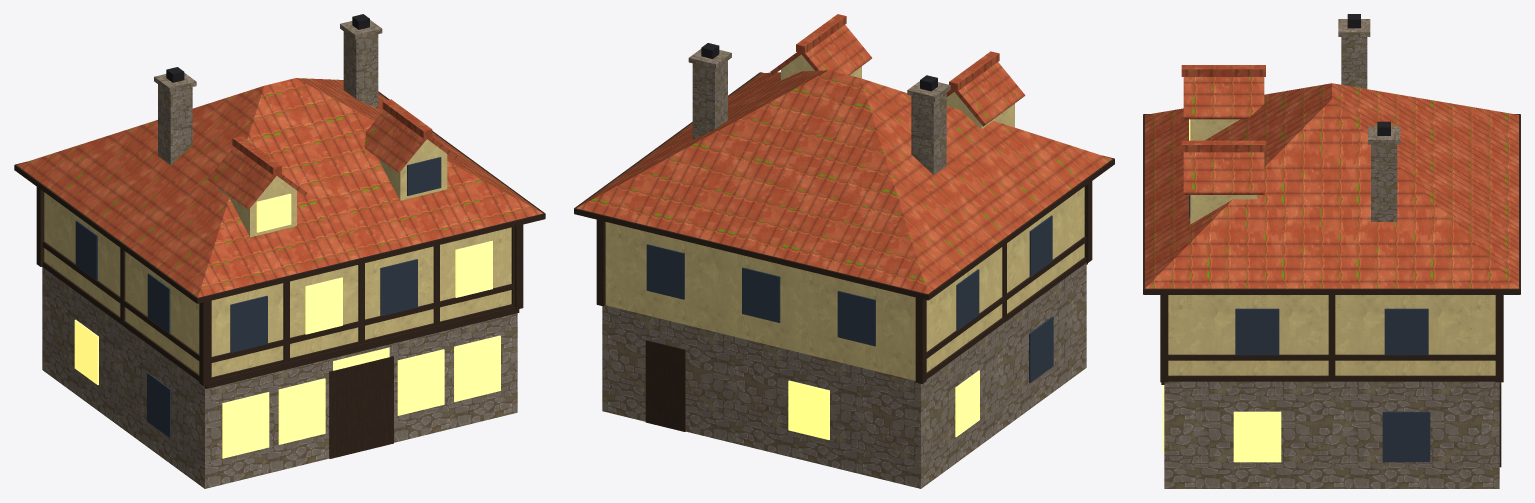
File: lantern_inn.glb
3 renders of one model, left to right at view 1: azimuth 30°, elevation 25°; view 2: azimuth 150°, elevation 25°; view 3: azimuth 270°, elevation 25°, orthographic. The views are drawn at different scales.
Parts seen in each view (by area): view 1: lantern_inn; view 2: lantern_inn; view 3: lantern_inn.
Part boxes in pixels (x1,y1,x2,y2): lantern_inn: [14, 14, 545, 488]; lantern_inn: [574, 14, 1114, 488]; lantern_inn: [1143, 14, 1520, 488].
Bounding box in the file's own units: 11.14 × 10.25 × 10.14.
Materials: 7 (4 with a texture image).
